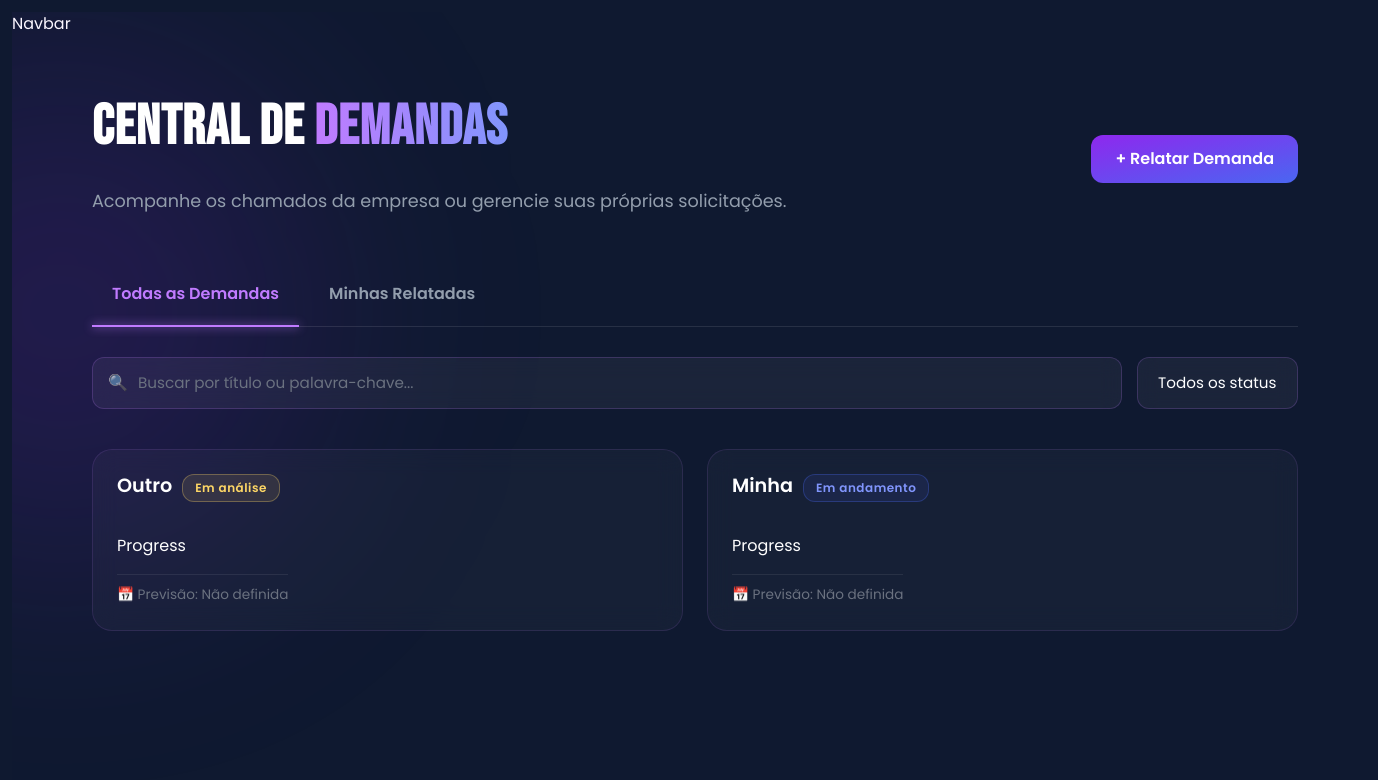
Scenario: studentDashboard.vue › aplica o filtro da aba "Minhas Relatadas"
Mudar tab para 'mine'
Click the button with class "tab-btn" showing "Minhas Relatadas".
click(402, 294)  # box [309,272,495,316]
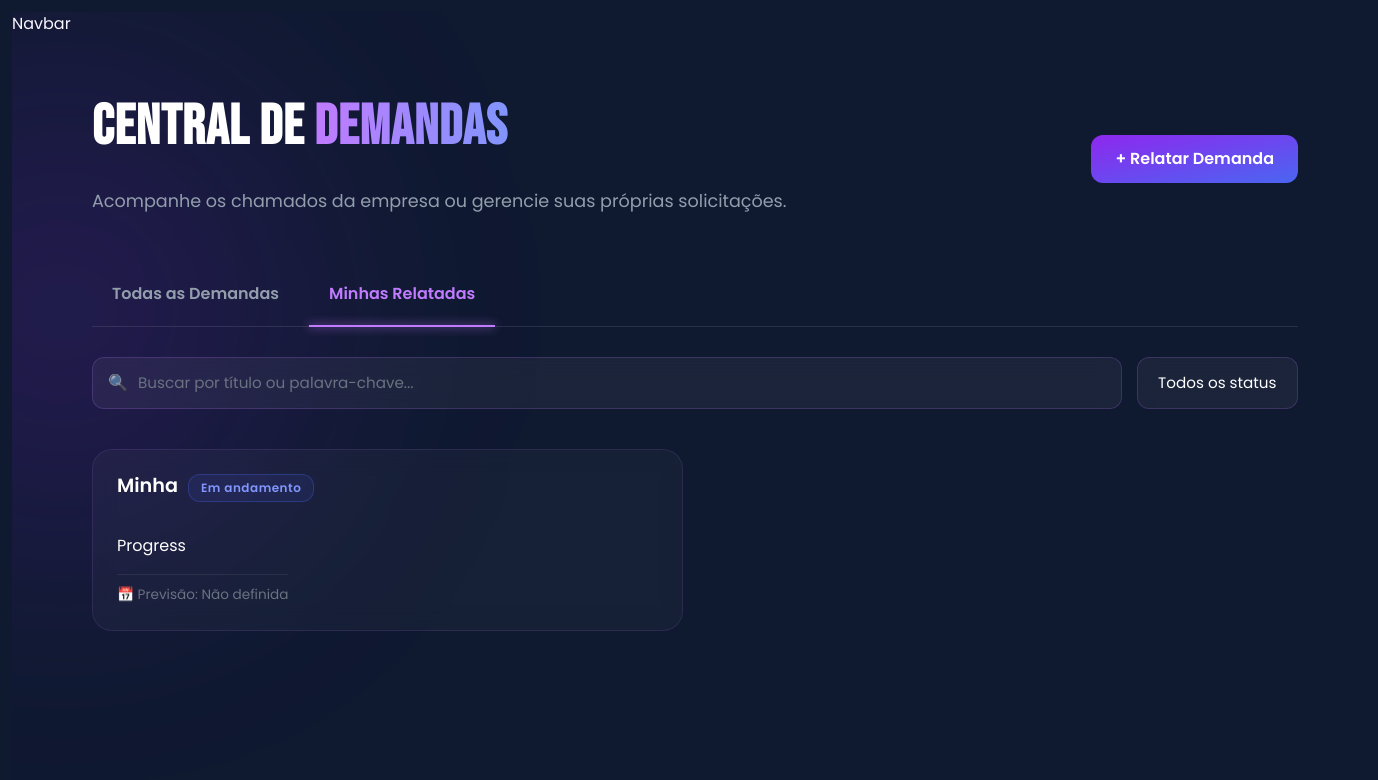
Now the text "Outro" is gone
